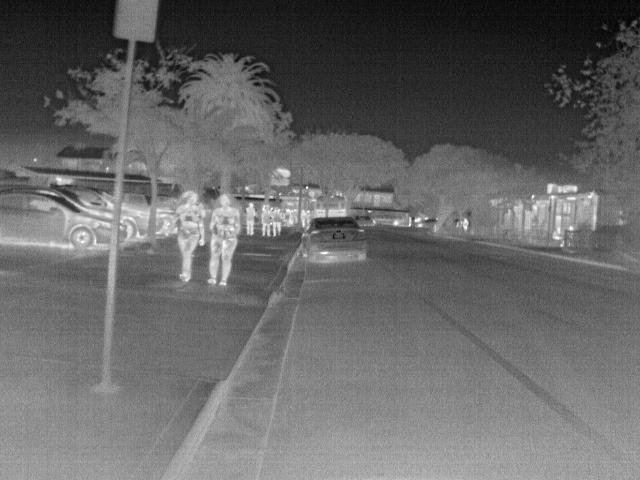car: (1, 188, 112, 248), (301, 213, 369, 262), (57, 181, 113, 217), (120, 203, 149, 241), (155, 207, 179, 237), (355, 214, 378, 228)
person: (201, 196, 243, 286), (172, 191, 208, 282), (260, 205, 276, 237), (244, 204, 258, 237), (273, 206, 287, 237), (552, 225, 567, 246), (463, 218, 471, 232)
